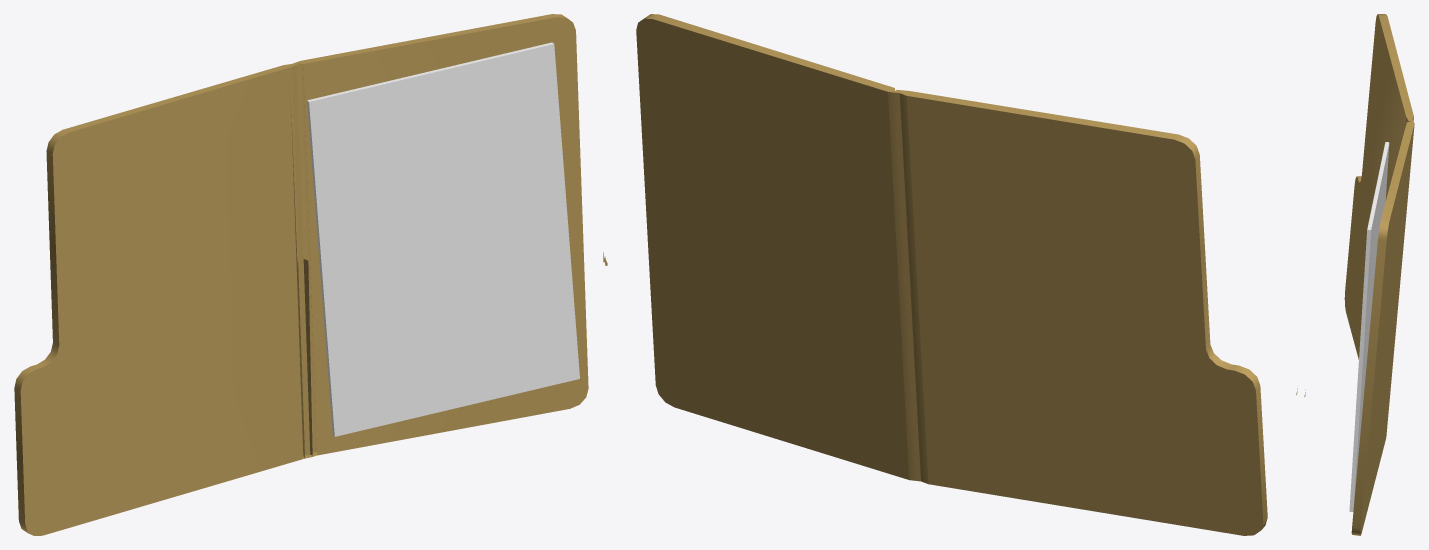
Rendered from folder.glb.
3 renders of one model, left to right at view 1: azimuth 30°, elevation 25°; view 2: azimuth 150°, elevation 25°; view 3: azimuth 270°, elevation 25°, orthographic. The views are drawn at different scales.
Parts seen in each view (by area): view 1: Object_30.003, Object_34.011; view 2: Object_30.003; view 3: Object_30.003, Object_34.011.
Boxes of the visible parts, bbox=[...] form: Object_30.003: bbox=[14, 14, 607, 535]; Object_34.011: bbox=[307, 42, 579, 436]; Object_30.003: bbox=[636, 14, 1267, 535]; Object_30.003: bbox=[1296, 14, 1414, 535]; Object_34.011: bbox=[1349, 142, 1389, 511].
Bounding box in the file's own units: 0.3325 × 0.2132 × 0.0713.
